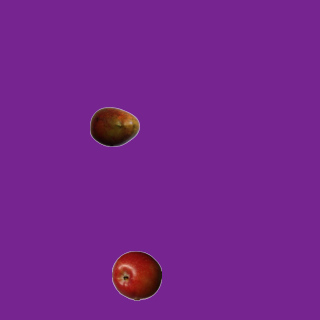Apple Braeburn: (111, 250, 161, 300)
Mango Red: (89, 101, 139, 151)
